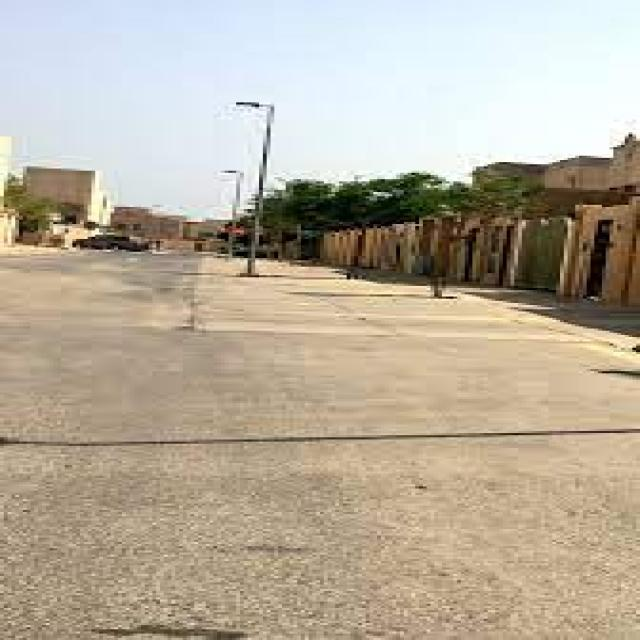Street Light: (232, 98, 274, 275), (221, 166, 244, 224)
